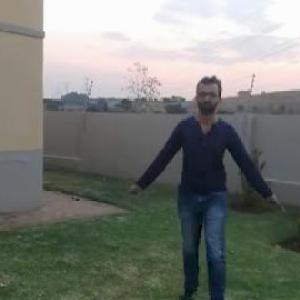land: (132, 73, 287, 299)
